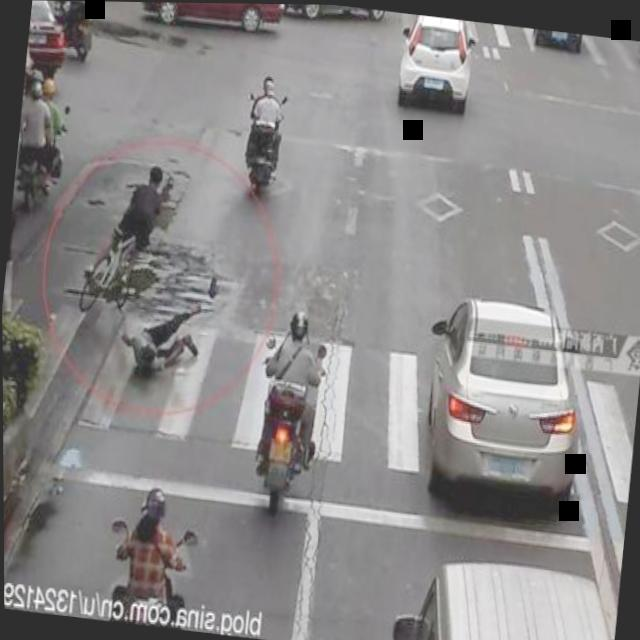Fall-Detected: (116, 293, 208, 379)
